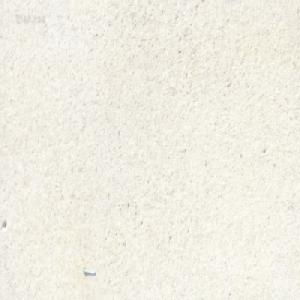Nail: (81, 265, 96, 275)
